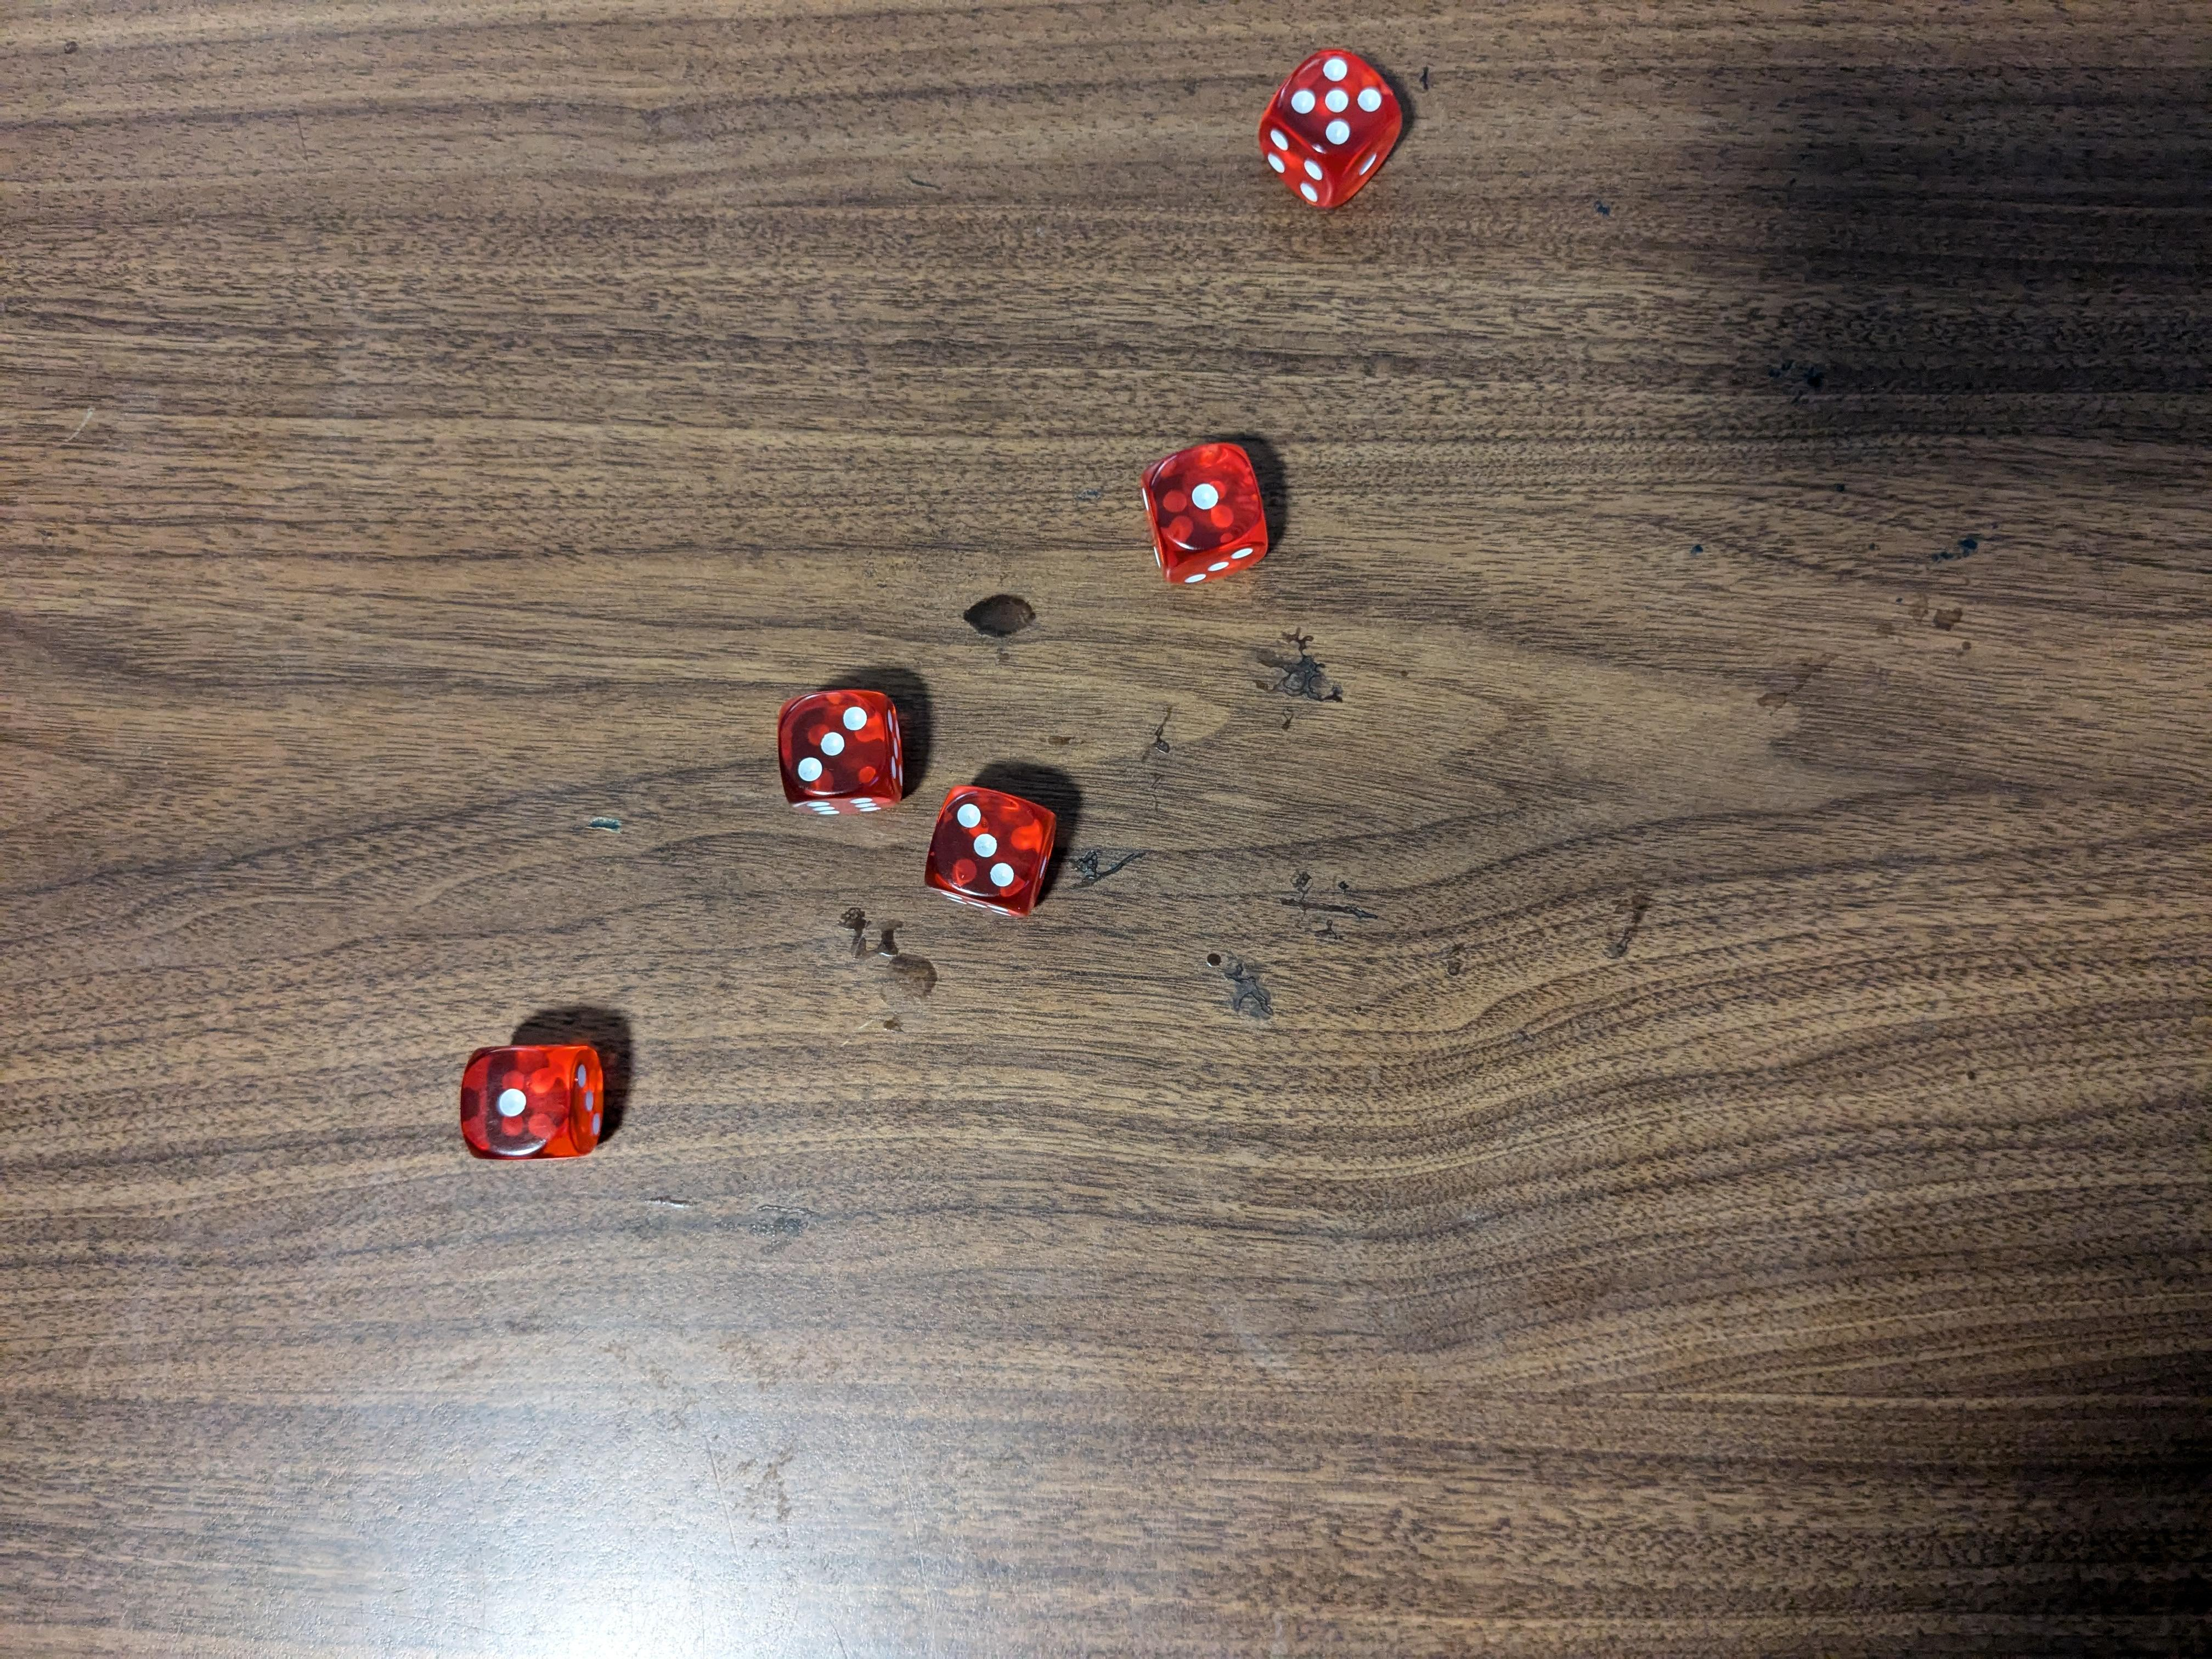five: (1254, 44, 1414, 214)
one: (1141, 432, 1275, 586), (458, 1040, 613, 1166)
three: (916, 781, 1064, 920), (773, 681, 907, 816)
